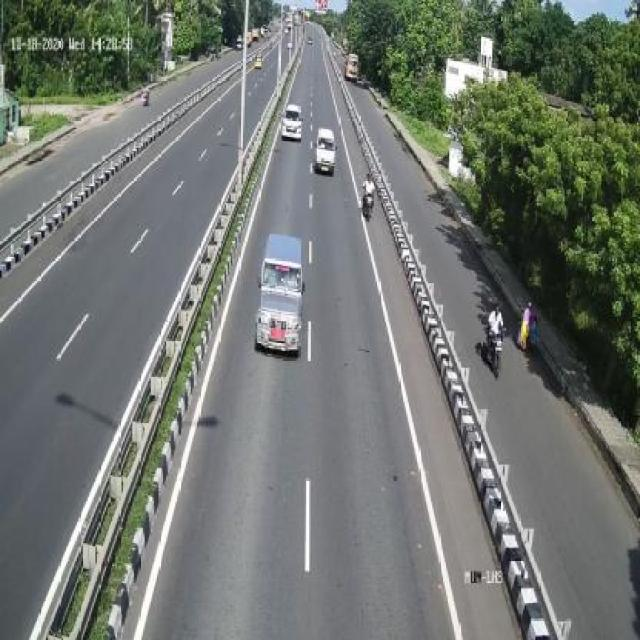car: (252, 232, 308, 360), (316, 125, 338, 180), (282, 99, 306, 144)
